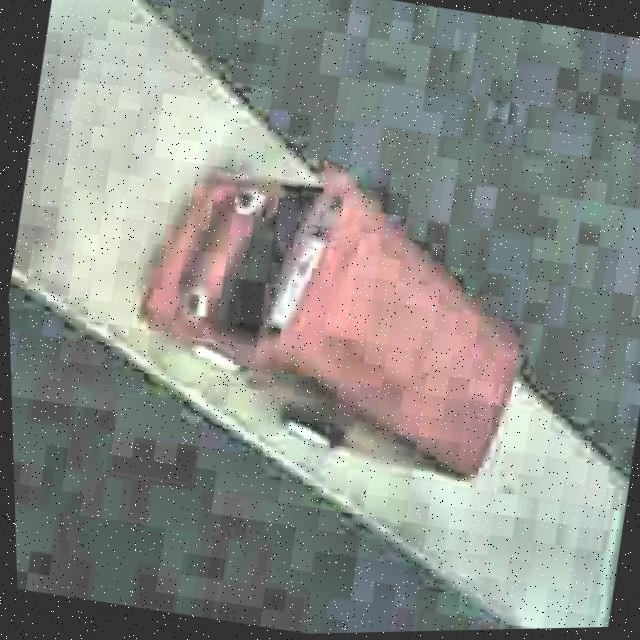bus: (113, 131, 552, 491)
